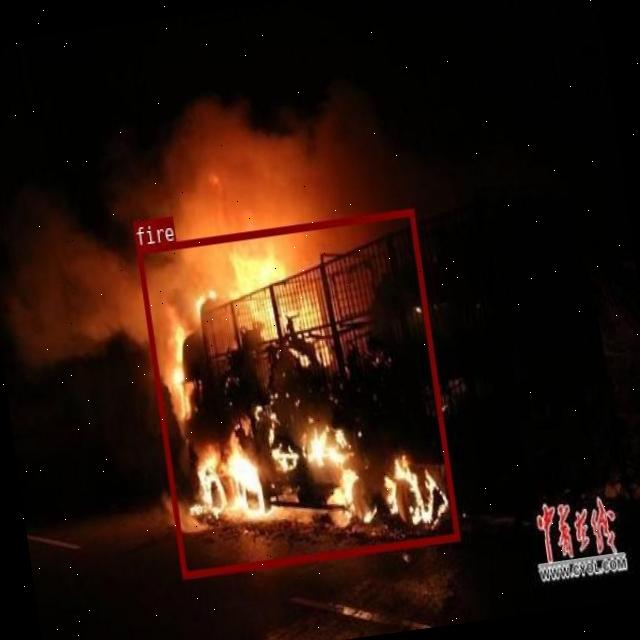fire: (135, 208, 459, 578)
